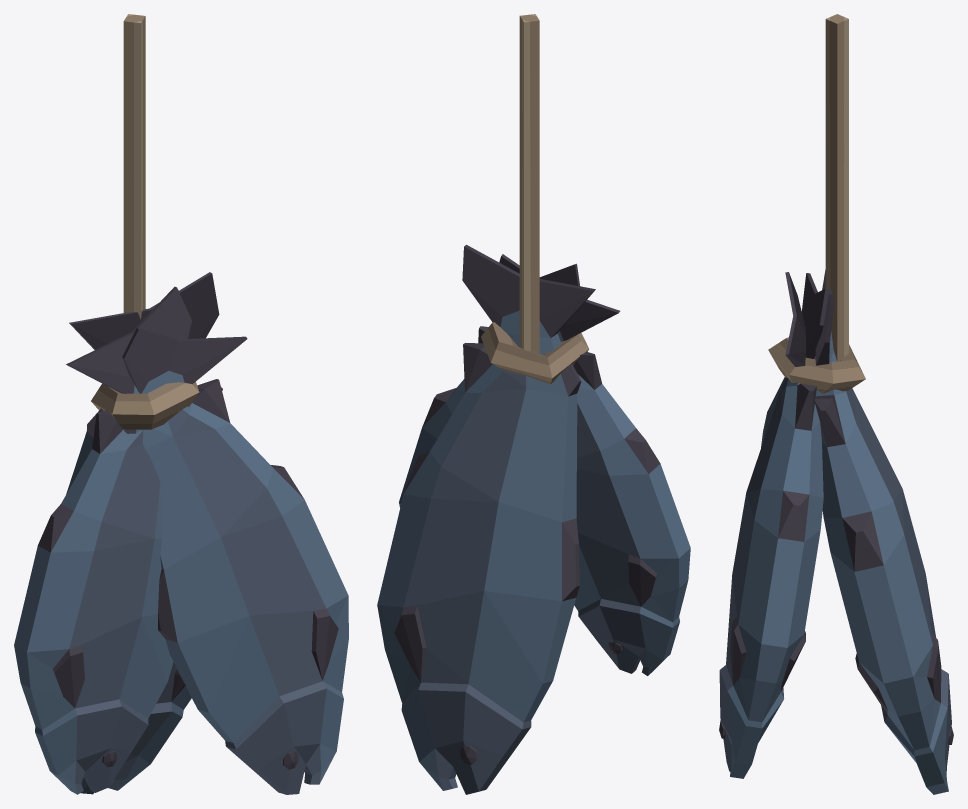
The model's file is SM_Prop_Fish_Hanging_01.fbx.
3 views of the same model, side by side, from view 1: azimuth 30°, elevation 25°; view 2: azimuth 150°, elevation 25°; view 3: azimuth 270°, elevation 25° (orthographic). The views are drawn at different scales.
Parts seen in each view (by area): view 1: SM_Prop_Fish_Hanging_01; view 2: SM_Prop_Fish_Hanging_01; view 3: SM_Prop_Fish_Hanging_01.
Part boxes in pixels (x1,y1,x2,y2): SM_Prop_Fish_Hanging_01: (14,14,348,794); SM_Prop_Fish_Hanging_01: (377,14,690,794); SM_Prop_Fish_Hanging_01: (719,14,953,794).
Bounding box in the file's own units: 56.98 × 141 × 39.58.
